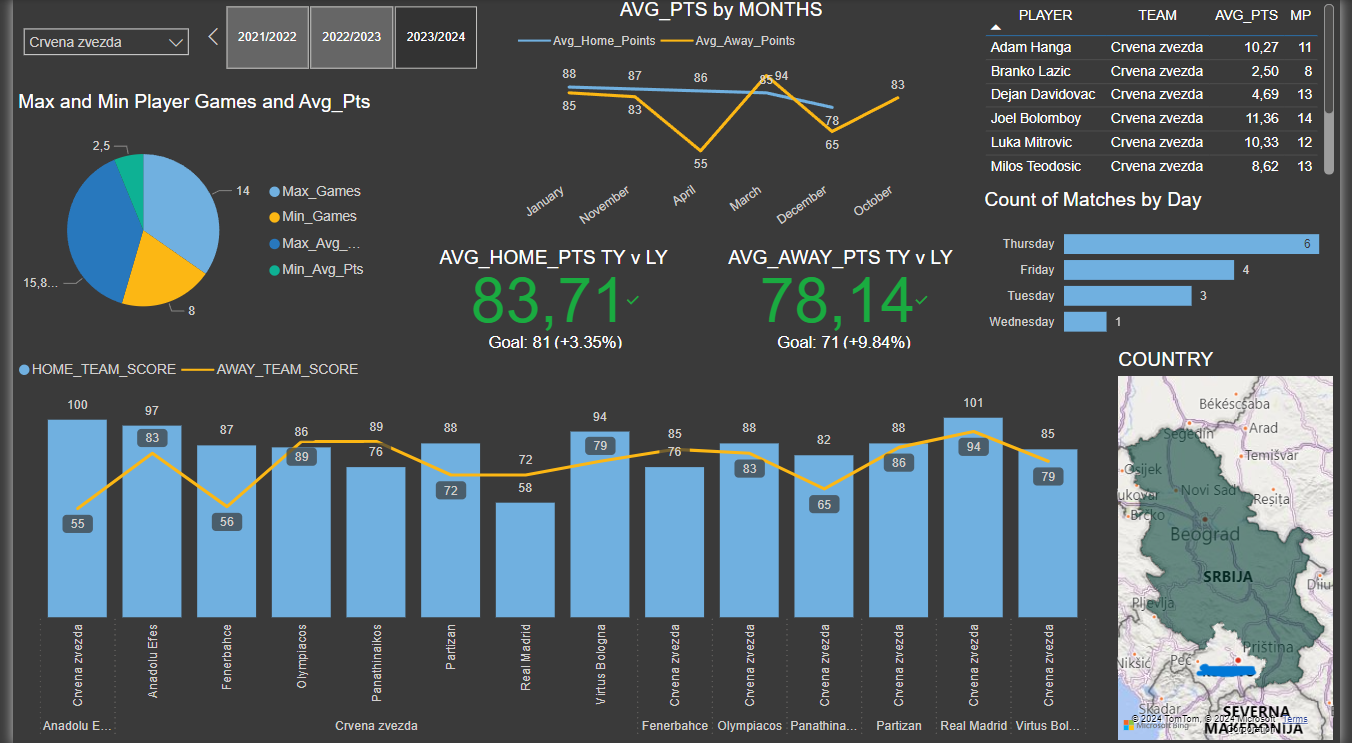

This screenshot's page, from the dashboard's own definition file:
{"tool":"powerbi","page":{"name":"Teams_Stat","canvas":[1280,720],"ordinal":1},"visuals":[{"type":"slicer","fields":{"Values":["DIM_TEAM.TEAM_NAME"]},"box":[0,17.8,179.8,61.7],"z":0},{"type":"slicer","fields":{"Values":["DIM_MATCH.SEASON"]},"box":[179.8,0,292.3,74.1],"z":1000},{"type":"tableEx","title":"PLAYERS","fields":{"Values":["DIM_PLAYER.PLAYER_NAME","DIM_TEAM.TEAM_NAME","FACT_PLAYER_STAT.PlayerAvgPoints","FACT_PLAYER_STAT.PlayerGamesCount"]},"box":[933.1,0,347.2,174.3],"z":2000},{"type":"lineClusteredColumnComboChart","title":"Home Matches","fields":{"Category":["DIM_MATCH.HOME_TEAM","DIM_MATCH.AWAY_TEAM"],"Y":["Sum(FACT_TEAM_STAT.HOME_TEAM_SCORE)"],"Y2":["Sum(FACT_TEAM_STAT.AWAY_TEAM_SCORE)"]},"box":[0,337.6,1062.1,382.8],"z":3000},{"type":"lineChart","title":"AVG_PTS by MONTHS","fields":{"Y":["FACT_TEAM_STAT.HomePoints","FACT_TEAM_STAT.AwayPoints"],"Category":["DIM_DATE.MONTH_NAME"]},"box":[483,0,402.1,238.8],"z":4000},{"type":"kpi","title":"AVG_HOME_PTS TY v LY","fields":{"TrendLine":["DIM_MATCH.SEASON"],"Goal":["FACT_TEAM_STAT.LastHomeAvgPts"],"Indicator":["FACT_TEAM_STAT.AvgHomePointsThisSeason"]},"box":[406.2,238.8,233.3,98.8],"z":5000},{"type":"kpi","title":"AVG_AWAY_PTS TY v LY","fields":{"TrendLine":["DIM_MATCH.SEASON"],"Indicator":["FACT_TEAM_STAT.AvgAwayPointsThisSeason"],"Goal":["FACT_TEAM_STAT.AvgAwayPointsLastSeason"]},"box":[684.7,238.8,233.3,98.8],"z":6000},{"type":"filledMap","fields":{"Category":["DIM_TEAM.COUNTRY_NAME"]},"box":[1062.1,337.6,218.2,382.8],"z":7000},{"type":"pieChart","title":"Max and Min Player Games and Avg_Pts","fields":{"Y":["FACT_PLAYER_STAT.PlayerMaxGames","FACT_PLAYER_STAT.PlayerMinGames","FACT_PLAYER_STAT.PlayerMaxAvgPoints","FACT_PLAYER_STAT.PlayerMinAvgPoints"]},"box":[0,87.8,356.8,249.7],"z":8000},{"type":"clusteredBarChart","title":"Count of Matches by Day","fields":{"Y":["CountNonNull(FACT_TEAM_STAT.FACT_TEAM_STAT_ID)"],"Category":["DIM_DATE.DAY_IN_WEEK"]},"box":[933.1,183.9,347.2,153.7],"z":9000}]}

Visuals, with their boxes in screenshot pixels (x1, y1, x2, y2), scaled from the page's 1280x720 canvas onto the 1352x743 screenshot:
slicer - DIM_TEAM.TEAM_NAME: {"x1": 0, "y1": 18, "x2": 190, "y2": 82}
slicer - DIM_MATCH.SEASON: {"x1": 190, "y1": 0, "x2": 499, "y2": 76}
"PLAYERS" tableEx: {"x1": 986, "y1": 0, "x2": 1351, "y2": 180}
"Home Matches" lineClusteredColumnComboChart: {"x1": 0, "y1": 348, "x2": 1122, "y2": 742}
"AVG_PTS by MONTHS" lineChart: {"x1": 510, "y1": 0, "x2": 935, "y2": 246}
"AVG_HOME_PTS TY v LY" kpi: {"x1": 429, "y1": 246, "x2": 675, "y2": 348}
"AVG_AWAY_PTS TY v LY" kpi: {"x1": 723, "y1": 246, "x2": 970, "y2": 348}
filledMap - DIM_TEAM.COUNTRY_NAME: {"x1": 1122, "y1": 348, "x2": 1351, "y2": 742}
"Max and Min Player Games and Avg_Pts" pieChart: {"x1": 0, "y1": 91, "x2": 377, "y2": 348}
"Count of Matches by Day" clusteredBarChart: {"x1": 986, "y1": 190, "x2": 1351, "y2": 348}
